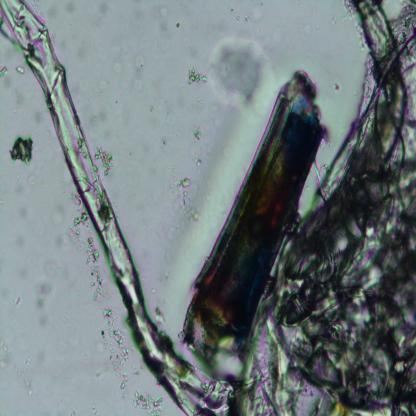Background material: (215, 33, 269, 115), (0, 333, 35, 403), (101, 305, 127, 390), (169, 168, 203, 224), (118, 54, 154, 100), (80, 239, 104, 302), (34, 278, 60, 330), (38, 250, 70, 288), (156, 1, 175, 52), (132, 389, 168, 414), (70, 32, 92, 66), (10, 137, 34, 167), (42, 4, 78, 23), (96, 138, 112, 180), (11, 171, 43, 190), (73, 207, 90, 241), (186, 66, 210, 90), (10, 279, 24, 309), (46, 201, 65, 222), (20, 262, 35, 284), (32, 104, 47, 125), (91, 107, 109, 124), (14, 231, 29, 249), (240, 14, 254, 30), (0, 64, 10, 79), (175, 16, 185, 29), (194, 127, 202, 142), (16, 64, 26, 75), (334, 84, 340, 92)
Fragment: (184, 66, 324, 358)
